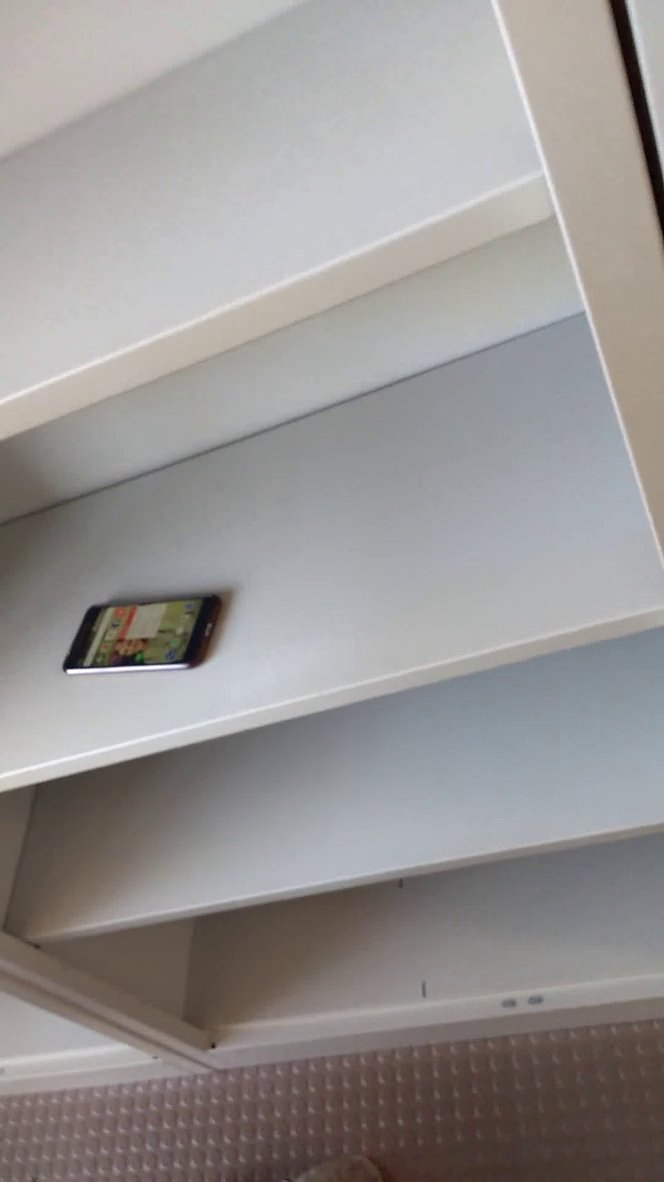phone: (57, 583, 238, 685)
